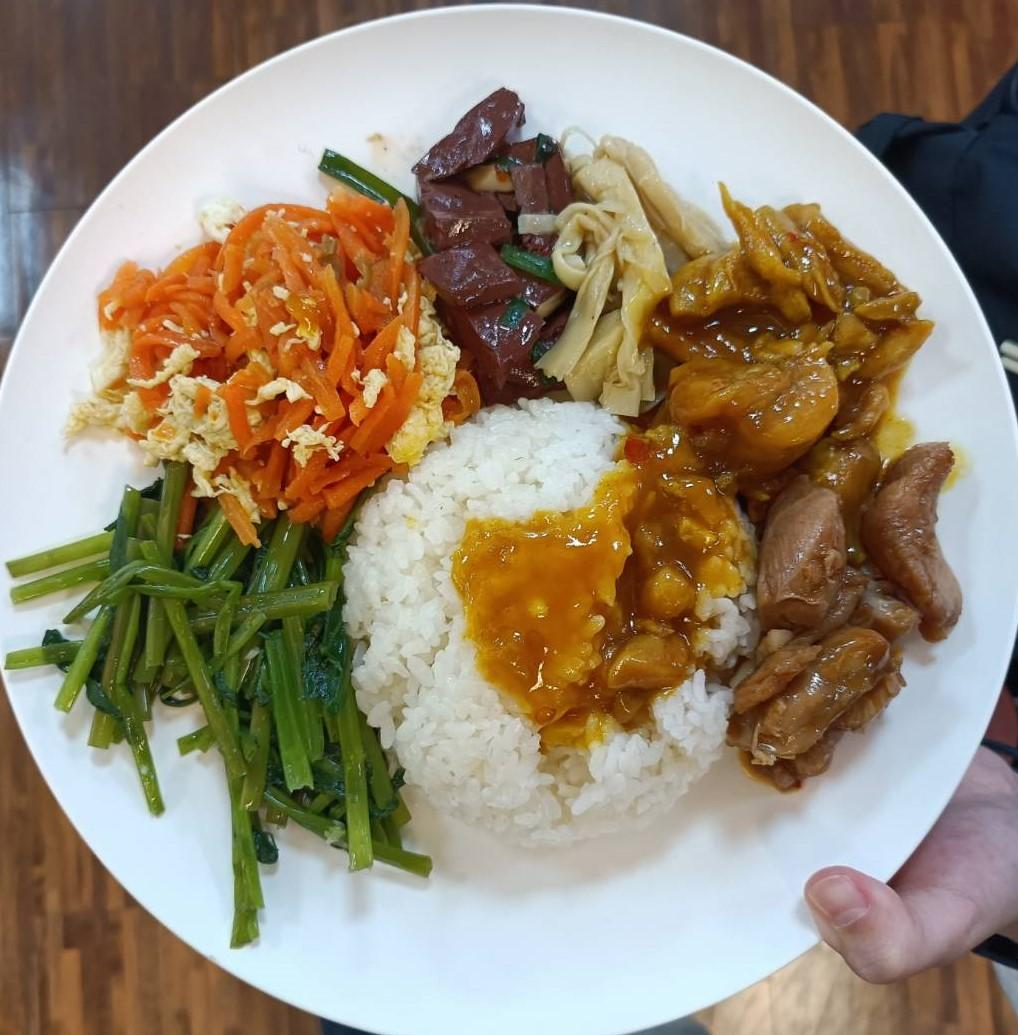big fried chicken leg: (0, 1, 1018, 1035)
big herbal chicken leg: (339, 408, 753, 858)
braised fish fillet: (10, 468, 425, 942), (87, 188, 451, 516), (416, 88, 571, 402), (546, 135, 705, 404)
braised pork: (727, 426, 971, 792), (649, 200, 920, 470)
